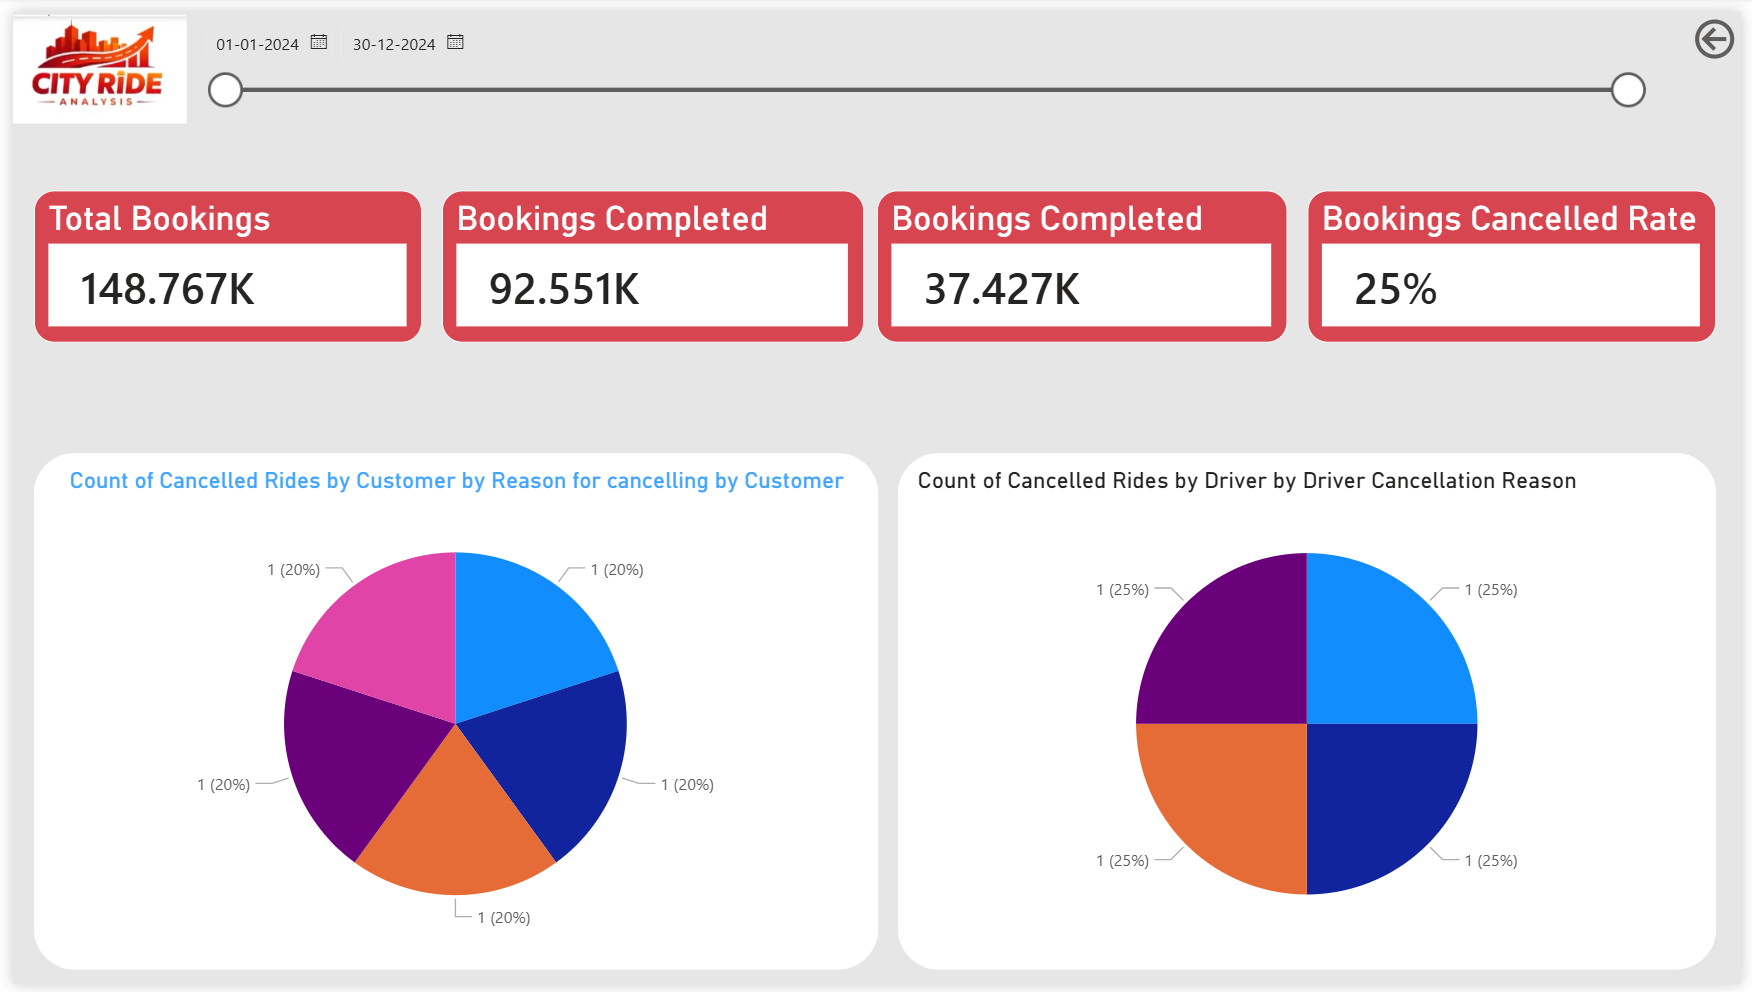

This screenshot's page, from the dashboard's own definition file:
{"tool":"powerbi","page":{"name":"Cancellation","canvas":[1280,720],"ordinal":4},"visuals":[{"type":"pieChart","fields":{"Y":["Count(rideBookings.Cancelled Rides by Customer)"],"Category":["rideBookings.Reason for cancelling by Customer"]},"box":[15,326.2,625,382.5],"z":0},{"type":"pieChart","fields":{"Y":["Count(rideBookings.Cancelled Rides by Driver)"],"Category":["rideBookings.Driver Cancellation Reason"]},"box":[655,326.2,606.2,382.5],"z":1000},{"type":"slicer","fields":{"Values":["rideBookings.Date"]},"box":[128.8,0,1088.8,106.2],"z":2000},{"type":"cardVisual","title":"Total Bookings","fields":{"Data":["Count(rideBookings.Booking ID)"]},"box":[15,132.5,287.5,112.5],"z":3000},{"type":"cardVisual","title":"Bookings Completed","fields":{"Data":["Count(rideBookings.Booking ID)"]},"box":[640,132.5,303.8,112.5],"z":4000},{"type":"cardVisual","title":"Bookings Completed","fields":{"Data":["Count(rideBookings.Booking ID)"]},"box":[317.5,132.5,312.5,112.5],"z":5000},{"type":"cardVisual","title":"Bookings Cancelled Rate","fields":{"Data":["rideBookings.CancelledPercentage"]},"box":[958.8,132.5,302.5,112.5],"z":6000},{"type":"actionButton","box":[1241.2,0,38.8,40],"z":7000},{"type":"image","box":[0,0,128.8,85],"z":8000}]}

Visuals, with their boxes in screenshot pixels (x1, y1, x2, y2), scaled from the page's 1280x720 canvas onto the 1752x992 screenshot:
pieChart - Count(rideBookings.Cancelled Rides by Customer) x rideBookings.Reason for cancelling by Customer: left=21, top=449, right=876, bottom=976
pieChart - Count(rideBookings.Cancelled Rides by Driver) x rideBookings.Driver Cancellation Reason: left=897, top=449, right=1726, bottom=976
slicer - rideBookings.Date: left=176, top=0, right=1667, bottom=146
"Total Bookings" cardVisual: left=21, top=183, right=414, bottom=338
"Bookings Completed" cardVisual: left=876, top=183, right=1292, bottom=338
"Bookings Completed" cardVisual: left=435, top=183, right=862, bottom=338
"Bookings Cancelled Rate" cardVisual: left=1312, top=183, right=1726, bottom=338
actionButton: left=1699, top=0, right=1751, bottom=55
image: left=0, top=0, right=176, bottom=117
